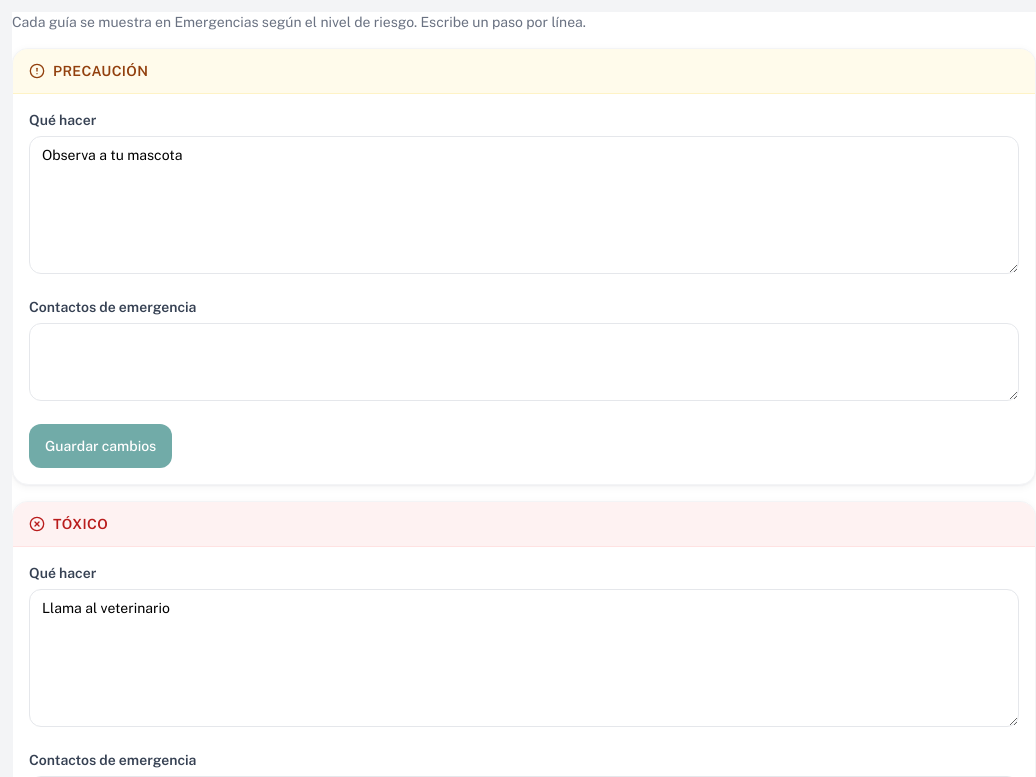
it: EmergencyGuidesTab › does not save a guide without steps
Expected: the text box showing "Llama al veterinario" below "TÓXICO" is shown, [29,589,1019,727]
Clear the text box labelled "Qué hacer" below "PRECAUCIÓN" at (524, 205), box [29,136,1019,274]
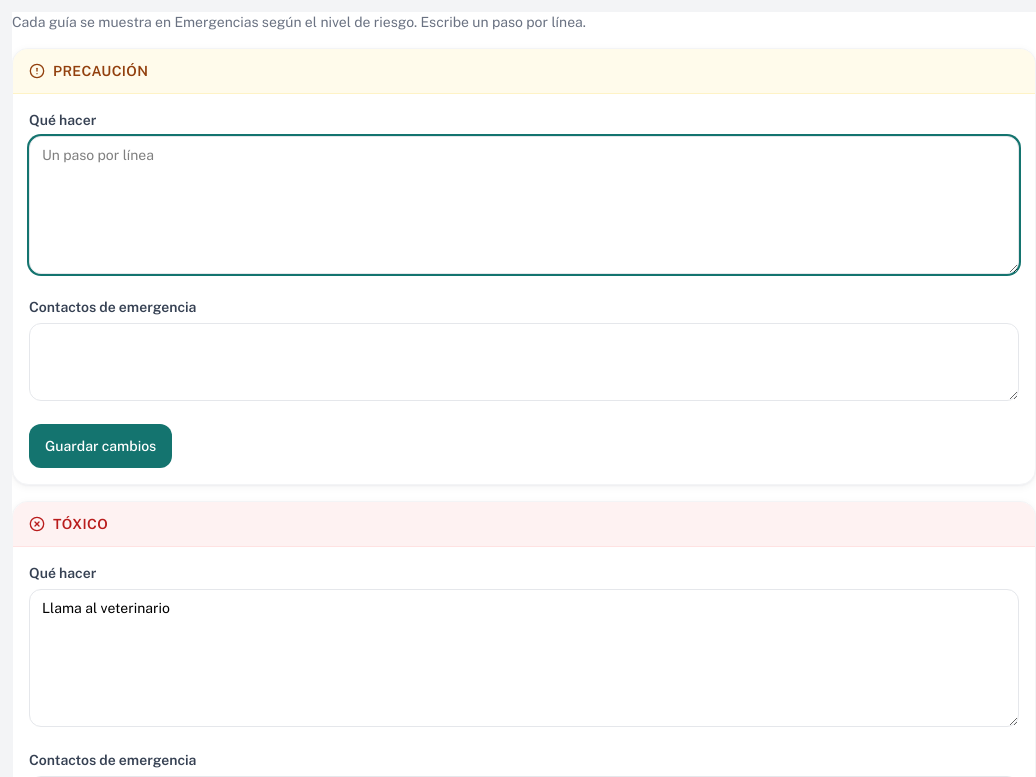
Click the button "Guardar cambios" at (101, 446), box [29,424,172,468]
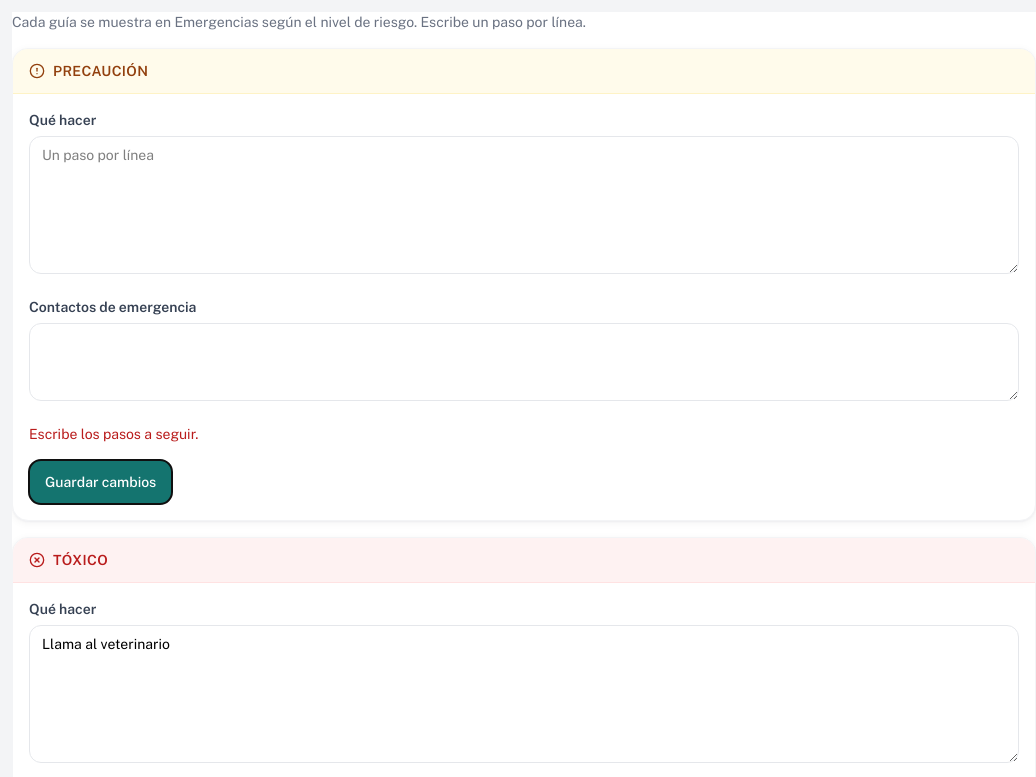
Expected: the text "Escribe los pasos a seguir." is shown, [29,426,198,442]
